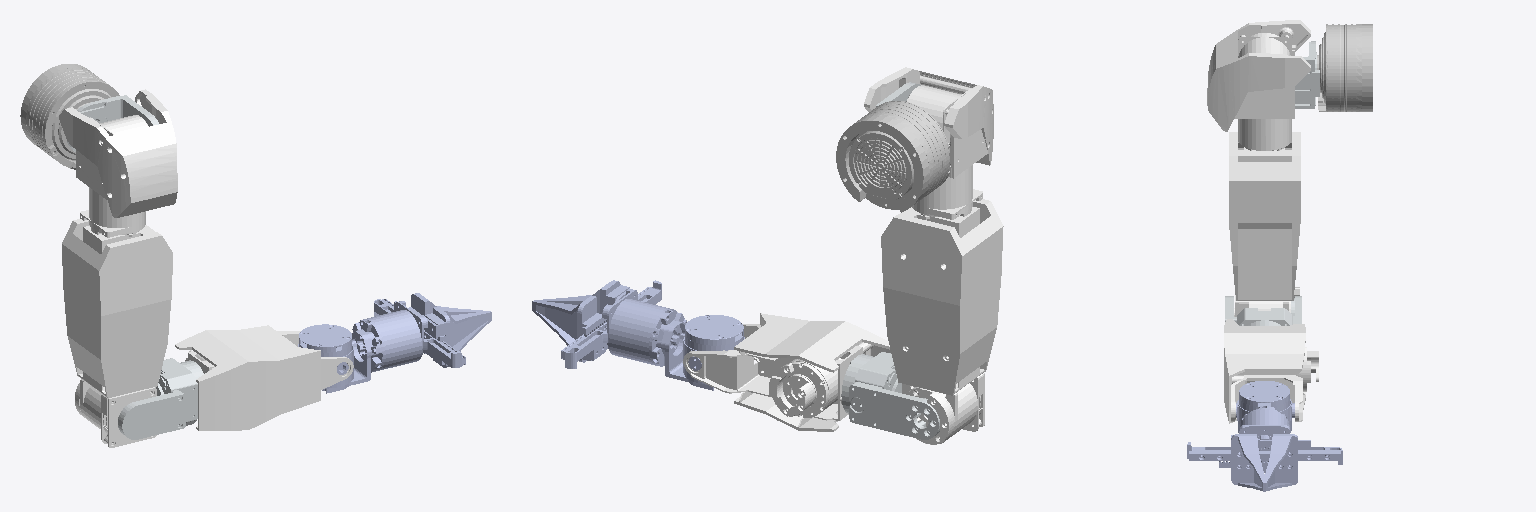
The robot description file, URDF, robot "X78009RIGHTB":
<?xml version="1.0" encoding="utf-8"?>
<!-- This URDF was automatically created by SolidWorks to URDF Exporter! Originally created by [author] ([email redacted]) 
     Commit Version: 1.6.0-4-g7f85cfe  Build Version: 1.6.7995.38578
     For more information, please see http://wiki.ros.org/sw_urdf_exporter -->
<robot
  name="X78009RIGHTB">
  <link
    name="base_link">
    <inertial>
      <origin
        xyz="-0.00011278 -0.031222 0.00027074"
        rpy="0 0 0" />
      <mass
        value="0.98057" />
      <inertia
        ixx="0.00080"
        ixy="0.00000"
        ixz="0.00000"
        iyy="0.00117"
        iyz="0.00003"
        izz="0.00081" />
    </inertial>
    <visual>
      <origin
        xyz="0 0 0"
        rpy="0 0 0" />
      <geometry>
        <mesh
          filename="package://X78009RIGHTB/meshes/base_link.STL" />
      </geometry>
      <material
        name="">
        <color
          rgba="0.84706 0.84706 0.84706 1" />
      </material>
    </visual>
    <collision>
      <origin
        xyz="0 0 0"
        rpy="0 0 0" />
      <geometry>
        <mesh
          filename="package://X78009RIGHTB/meshes/base_link.STL" />
      </geometry>
    </collision>
  </link>
  <link
    name="link1">
    <inertial>
      <origin
        xyz="0.0224120198552404 0.0243259050011737 -2.45029690981724E-17"
        rpy="0 0 0" />
      <mass
        value="0.129445047995555" />
      <inertia
        ixx="0.00012"
        ixy="0.00003"
        ixz="0.00000"
        iyy="0.00008"
        iyz="0.00000"
        izz="0.00013" />
    </inertial>
    <visual>
      <origin
        xyz="0 0 0"
        rpy="0 0 0" />
      <geometry>
        <mesh
          filename="package://X78009RIGHTB/meshes/link1.STL" />
      </geometry>
      <material
        name="">
        <color
          rgba="0.898039215686275 0.917647058823529 0.929411764705882 1" />
      </material>
    </visual>
    <collision>
      <origin
        xyz="0 0 0"
        rpy="0 0 0" />
      <geometry>
        <mesh
          filename="package://X78009RIGHTB/meshes/link1.STL" />
      </geometry>
    </collision>
  </link>
  <joint
    name="joint1"
    type="revolute">
    <origin
      xyz="0 -0.0617 0"
      rpy="-3.1416 0 0" />
    <parent
      link="base_link" />
    <child
      link="link1" />
    <axis
      xyz="0 1 0" />
    <limit
      lower="-10"
      upper="10"
      effort="100"
      velocity="1000" />
  </joint>
  <link
    name="link2">
    <inertial>
      <origin
        xyz="0.024713414688691 0.00294494092161987 -0.0271690495859664"
        rpy="0 0 0" />
      <mass
        value="0.974393932799189" />
      <inertia
        ixx="0.00152"
        ixy="-0.00002"
        ixz="-0.00007"
        iyy="0.00152"
        iyz="0.00003"
        izz="0.00073" />
    </inertial>
    <visual>
      <origin
        xyz="0 0 0"
        rpy="0 0 0" />
      <geometry>
        <mesh
          filename="package://X78009RIGHTB/meshes/link2.STL" />
      </geometry>
      <material
        name="">
        <color
          rgba="1 1 1 1" />
      </material>
    </visual>
    <collision>
      <origin
        xyz="0 0 0"
        rpy="0 0 0" />
      <geometry>
        <mesh
          filename="package://X78009RIGHTB/meshes/link2.STL" />
      </geometry>
    </collision>
  </link>
  <joint
    name="joint2"
    type="revolute">
    <origin
      xyz="0.02725 0.0585 0"
      rpy="3.1416 0 -3.1416" />
    <parent
      link="link1" />
    <child
      link="link2" />
    <axis
      xyz="1 0 0" />
    <limit
      lower="-10"
      upper="10"
      effort="100"
      velocity="1000" />
  </joint>
  <link
    name="link3">
    <inertial>
      <origin
        xyz="-0.000221148954712119 -0.000502285161927407 0.156409631494258"
        rpy="0 0 0" />
      <mass
        value="0.867040530400946" />
      <inertia
        ixx="0.00529"
        ixy="0.00001"
        ixz="-0.00005"
        iyy="0.00533"
        iyz="-0.00002"
        izz="0.00078" />
    </inertial>
    <visual>
      <origin
        xyz="0 0 0"
        rpy="0 0 0" />
      <geometry>
        <mesh
          filename="package://X78009RIGHTB/meshes/link3.STL" />
      </geometry>
      <material
        name="">
        <color
          rgba="1 1 1 1" />
      </material>
    </visual>
    <collision>
      <origin
        xyz="0 0 0"
        rpy="0 0 0" />
      <geometry>
        <mesh
          filename="package://X78009RIGHTB/meshes/link3.STL" />
      </geometry>
    </collision>
  </link>
  <joint
    name="joint3"
    type="revolute">
    <origin
      xyz="0.02725 0 -0.0865"
      rpy="3.1416 0 -3.1416" />
    <parent
      link="link2" />
    <child
      link="link3" />
    <axis
      xyz="0 0 1" />
    <limit
      lower="-10"
      upper="10"
      effort="100"
      velocity="1000" />
  </joint>
  <link
    name="link4">
    <inertial>
      <origin
        xyz="0.0613986983616809 -0.0255416405858853 2.02804813468349E-05"
        rpy="0 0 0" />
      <mass
        value="0.479201338101904" />
      <inertia
        ixx="0.00037"
        ixy="0.00000"
        ixz="0.00000"
        iyy="0.00041"
        iyz="0.00000"
        izz="0.00057" />
    </inertial>
    <visual>
      <origin
        xyz="0 0 0"
        rpy="0 0 0" />
      <geometry>
        <mesh
          filename="package://X78009RIGHTB/meshes/link4.STL" />
      </geometry>
      <material
        name="">
        <color
          rgba="0.898039215686275 0.917647058823529 0.929411764705882 1" />
      </material>
    </visual>
    <collision>
      <origin
        xyz="0 0 0"
        rpy="0 0 0" />
      <geometry>
        <mesh
          filename="package://X78009RIGHTB/meshes/link4.STL" />
      </geometry>
    </collision>
  </link>
  <joint
    name="joint4"
    type="revolute">
    <origin
      xyz="0 -0.02725 0.2165"
      rpy="3.1416 0 0" />
    <parent
      link="link3" />
    <child
      link="link4" />
    <axis
      xyz="0 1 0" />
    <limit
      lower="-10"
      upper="10"
      effort="100"
      velocity="1000" />
  </joint>
  <link
    name="link5">
    <inertial>
      <origin
        xyz="0.053073844142225 0.00866010413384653 -2.94781779324738E-05"
        rpy="0 0 0" />
      <mass
        value="0.58473830258857" />
      <inertia
        ixx="0.00057"
        ixy="-0.00006"
        ixz="0.00000"
        iyy="0.00094"
        iyz="0.00000"
        izz="0.00109" />
    </inertial>
    <visual>
      <origin
        xyz="0 0 0"
        rpy="0 0 0" />
      <geometry>
        <mesh
          filename="package://X78009RIGHTB/meshes/link5.STL" />
      </geometry>
      <material
        name="">
        <color
          rgba="1 1 1 1" />
      </material>
    </visual>
    <collision>
      <origin
        xyz="0 0 0"
        rpy="0 0 0" />
      <geometry>
        <mesh
          filename="package://X78009RIGHTB/meshes/link5.STL" />
      </geometry>
    </collision>
  </link>
  <joint
    name="joint5"
    type="revolute">
    <origin
      xyz="0.0935 -0.02725 0"
      rpy="0 0 0" />
    <parent
      link="link4" />
    <child
      link="link5" />
    <axis
      xyz="1 0 0" />
    <limit
      lower="-10"
      upper="10"
      effort="100"
      velocity="1000" />
  </joint>
  <link
    name="link6">
    <inertial>
      <origin
        xyz="4.65934847325711E-05 -0.0370173457953659 -0.00114725698489287"
        rpy="0 0 0" />
      <mass
        value="0.332893418432935" />
      <inertia
        ixx="0.00013"
        ixy="0.00000"
        ixz="0.00000"
        iyy="0.00012"
        iyz="0.00000"
        izz="0.00015" />
    </inertial>
    <visual>
      <origin
        xyz="0 0 0"
        rpy="0 0 0" />
      <geometry>
        <mesh
          filename="package://X78009RIGHTB/meshes/link6.STL" />
      </geometry>
      <material
        name="">
        <color
          rgba="0.792156862745098 0.819607843137255 0.933333333333333 1" />
      </material>
    </visual>
    <collision>
      <origin
        xyz="0 0 0"
        rpy="0 0 0" />
      <geometry>
        <mesh
          filename="package://X78009RIGHTB/meshes/link6.STL" />
      </geometry>
    </collision>
  </link>
  <joint
    name="joint6"
    type="revolute">
    <origin
      xyz="0.1615 0.03725 0"
      rpy="0 0 0" />
    <parent
      link="link5" />
    <child
      link="link6" />
    <axis
      xyz="0 1 0" />
    <limit
      lower="-10"
      upper="10"
      effort="100"
      velocity="1000" />
  </joint>
  <link
    name="link7">
    <inertial>
      <origin
        xyz="0.090438 -4.593E-05 0.020328"
        rpy="0 0 0" />
      <mass
        value="0.60047" />
      <inertia
        ixx="0.00049"
        ixy="0.00000"
        ixz="0.00008"
        iyy="0.00078"
        iyz="0.00000"
        izz="0.00102" />
    </inertial>
    <visual>
      <origin
        xyz="0 0 0"
        rpy="0 0 0" />
      <geometry>
        <mesh
          filename="package://X78009RIGHTB/meshes/link7.STL" />
      </geometry>
      <material
        name="">
        <color
          rgba="0.79216 0.81961 0.93333 1" />
      </material>
    </visual>
    <collision>
      <origin
        xyz="0 0 0"
        rpy="0 0 0" />
      <geometry>
        <mesh
          filename="package://X78009RIGHTB/meshes/link7.STL" />
      </geometry>
    </collision>
  </link>
  <joint
    name="joint7"
    type="revolute">
    <origin
      xyz="0 -0.03725 -0.022"
      rpy="0 0 0" />
    <parent
      link="link6" />
    <child
      link="link7" />
    <axis
      xyz="0 0 -1" />
    <limit
      lower="-10"
      upper="10"
      effort="100"
      velocity="1000" />
  </joint>
</robot>

--- Facts derived from the render (not from the file) ---
3 views of the same robot in one strip: view 1: azimuth 30°, elevation 25°; view 2: azimuth 150°, elevation 25°; view 3: azimuth 270°, elevation 25° (orthographic).
Robot: X78009RIGHTB — 8 links, 7 joints (7 revolute); root link base_link; default pose: every joint at zero.
Links seen in each view (by area): view 1: link3, link5, link2, link7, base_link, link4, link6, link1; view 2: link3, link5, base_link, link7, link2, link4, link6; view 3: link3, link2, link7, link5, base_link, link6, link4, link1.
Link boxes in pixels (<box>): link3: <box>62,219,172,447</box>; link5: <box>175,325,353,430</box>; link2: <box>59,89,177,237</box>; link7: <box>322,293,491,393</box>; base_link: <box>20,64,119,169</box>; link4: <box>118,358,203,439</box>; link6: <box>298,324,353,388</box>; link1: <box>67,95,158,151</box>; link3: <box>881,199,1003,444</box>; link5: <box>683,313,890,431</box>; base_link: <box>836,101,949,212</box>; link7: <box>532,280,713,390</box>; link2: <box>864,67,993,219</box>; link4: <box>841,352,939,439</box>; link6: <box>683,315,744,384</box>; link3: <box>1229,132,1300,316</box>; link2: <box>1207,20,1310,150</box>; link7: <box>1187,406,1342,491</box>; link5: <box>1224,319,1318,423</box>; base_link: <box>1317,24,1372,111</box>; link6: <box>1236,381,1294,432</box>; link4: <box>1225,296,1301,325</box>; link1: <box>1295,41,1319,108</box>.
Bounding box of the posed robot: 0.5064 × 0.208 × 0.392 m (x, y, z).
8 mesh visuals loaded from 8 distinct referenced files (8 binary STL).